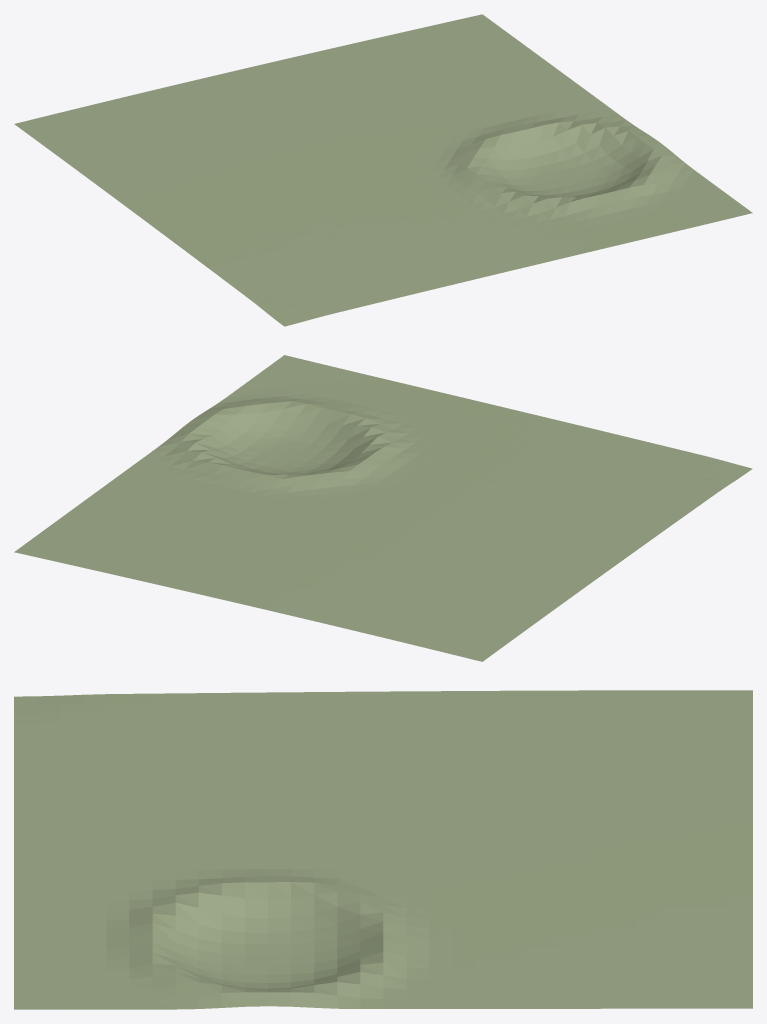
File: lunar-1-0.glb
3 views of the same model, one above another, from view 1: azimuth 30°, elevation 25°; view 2: azimuth 150°, elevation 25°; view 3: azimuth 270°, elevation 25° (orthographic). The views are drawn at different scales.
Parts seen in each view (by area): view 1: lunar-1-0; view 2: lunar-1-0; view 3: lunar-1-0.
Boxes of the visible parts, x1=… form: lunar-1-0: x1=14, y1=14, x2=752, y2=326; lunar-1-0: x1=14, y1=355, x2=752, y2=661; lunar-1-0: x1=14, y1=690, x2=752, y2=1009.
Bounding box in the file's own units: 128 × 4.67 × 128.
